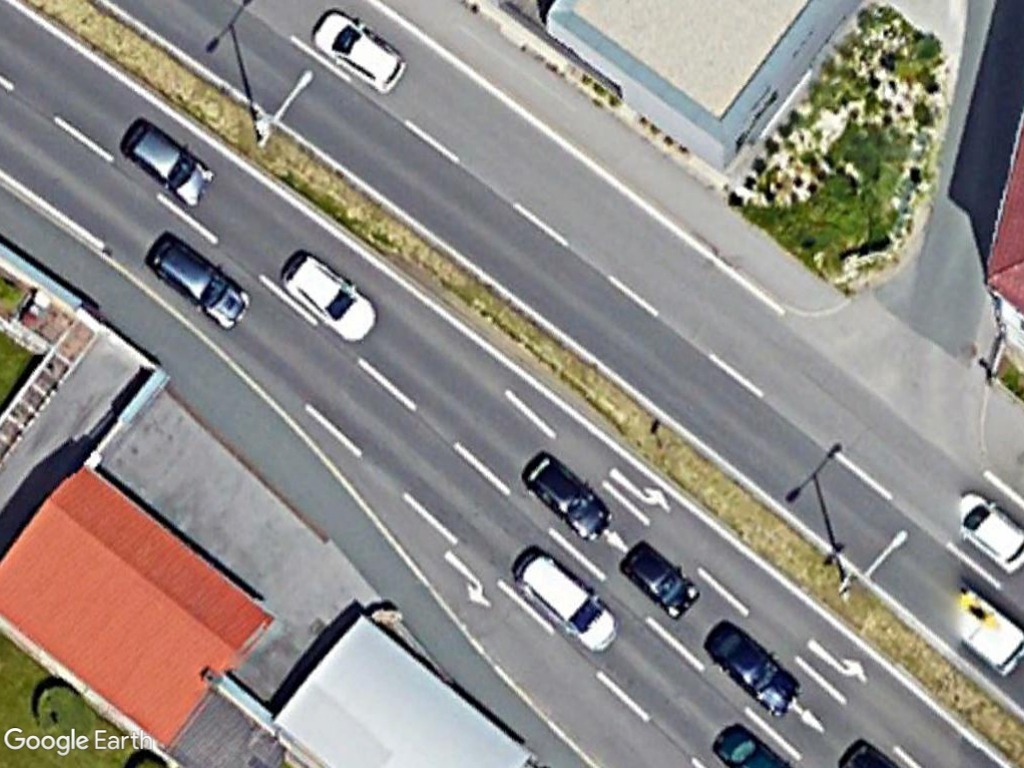car: (506, 547, 622, 659), (702, 616, 809, 728), (141, 232, 255, 335), (274, 249, 381, 348), (300, 7, 409, 100), (520, 440, 620, 541), (121, 119, 222, 213), (615, 532, 703, 623), (950, 483, 1024, 579)
